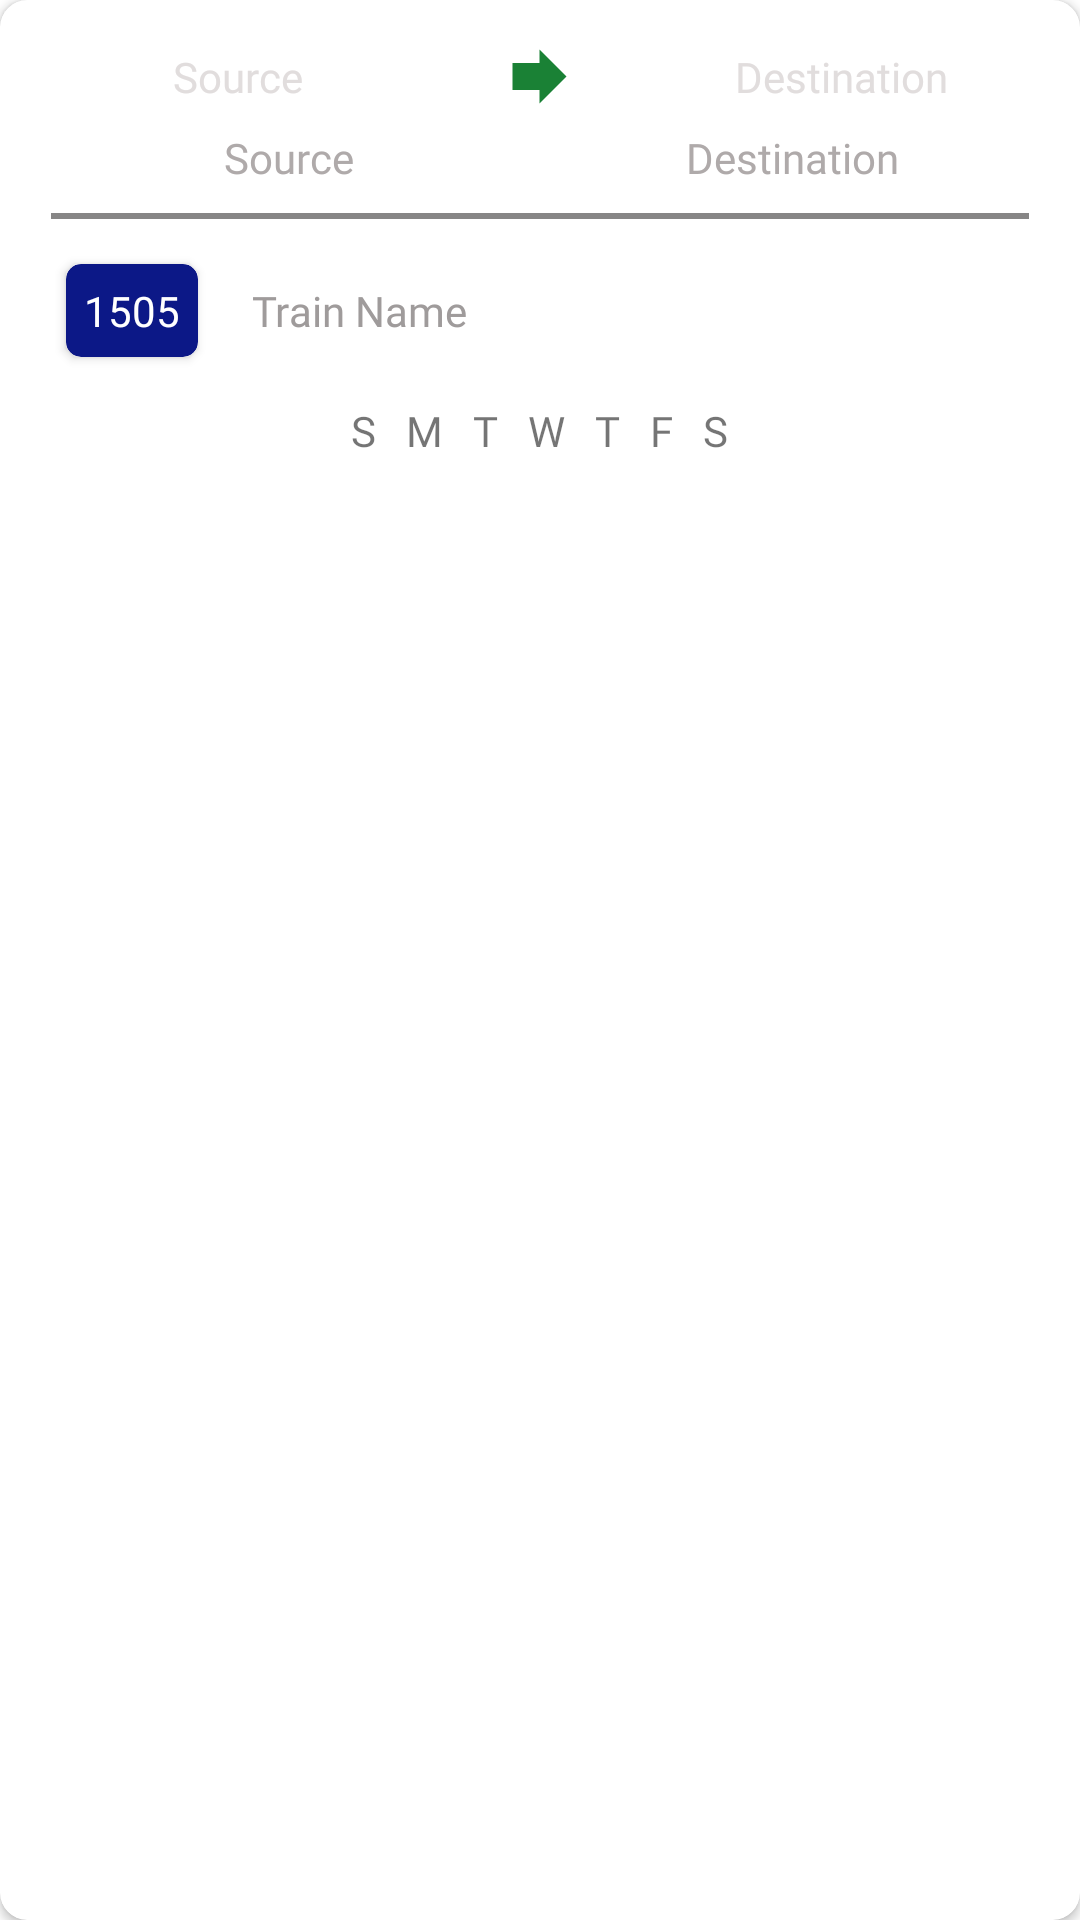

Point at icon controls on the screen. Image size 1080x1920, points as (x=x, y=y).
forward: (x=539, y=76)
